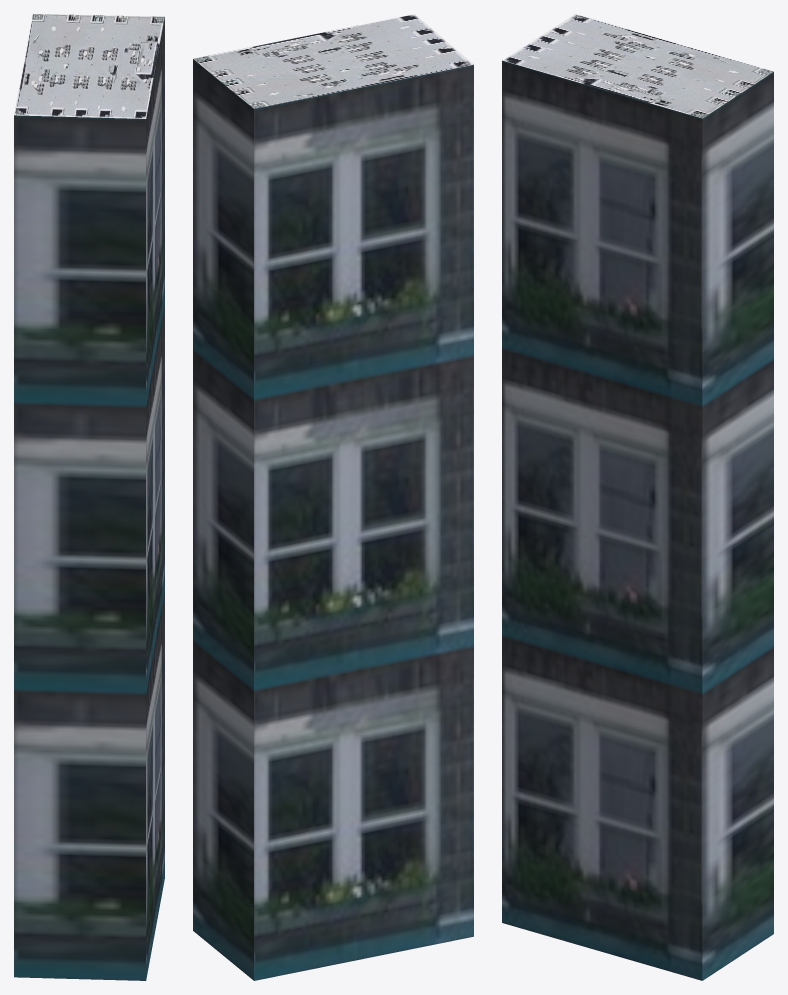
Rendered from ResTex__5329.fbx.
3 views of the same model, side by side, from view 1: azimuth 30°, elevation 25°; view 2: azimuth 150°, elevation 25°; view 3: azimuth 270°, elevation 25° (orthographic).
Visible parts, largest first — view 1: CityEngineMaterial_11_m, CityEngineMaterial_4_m; view 2: CityEngineMaterial_11_m, CityEngineMaterial_4_m; view 3: CityEngineMaterial_11_m, CityEngineMaterial_4_m.
Part boxes in pixels (left/top/right/bottom): CityEngineMaterial_11_m: left=14, top=17, right=164, bottom=980; CityEngineMaterial_4_m: left=14, top=14, right=164, bottom=118; CityEngineMaterial_11_m: left=193, top=59, right=473, bottom=980; CityEngineMaterial_4_m: left=193, top=14, right=473, bottom=108; CityEngineMaterial_11_m: left=502, top=60, right=773, bottom=980; CityEngineMaterial_4_m: left=502, top=14, right=773, bottom=118.
Size of the model in its own units: 2.34 by 9 by 2.57.
Materials: 2 (2 with a texture image).
